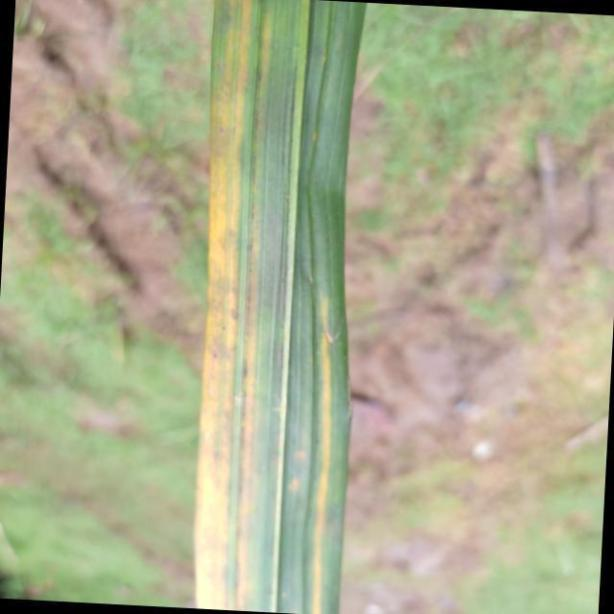Megnesium: (193, 0, 368, 614)
